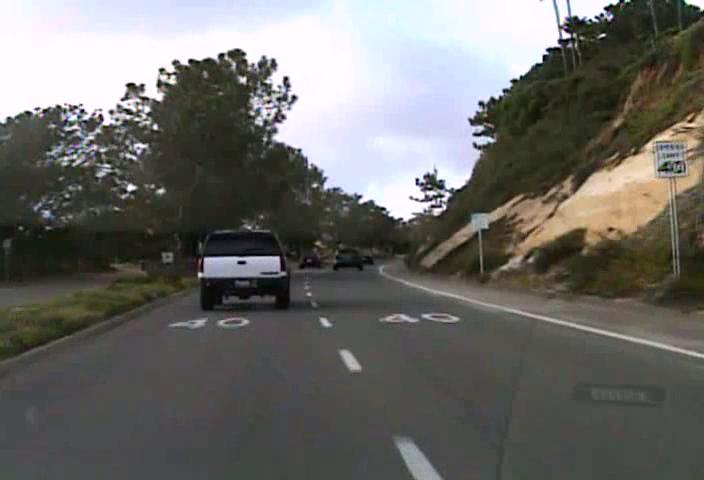speedLimit40: (653, 139, 688, 178)
